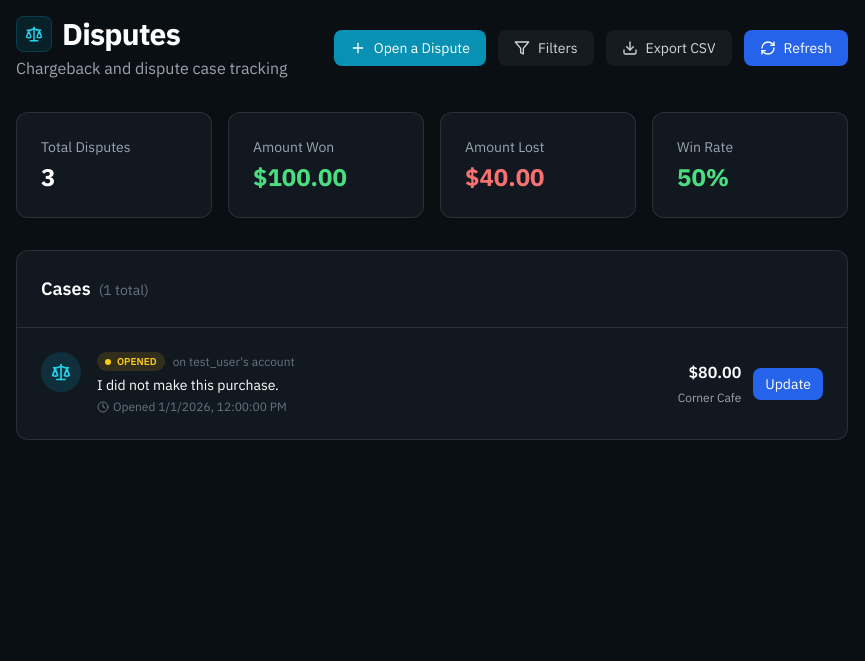
DisputesPage — admin › shows a transition error inline without discarding the form
This screenshot has width=865, height=661.
Click the button "Update".
click(788, 384)  # box 753,368 -> 823,400
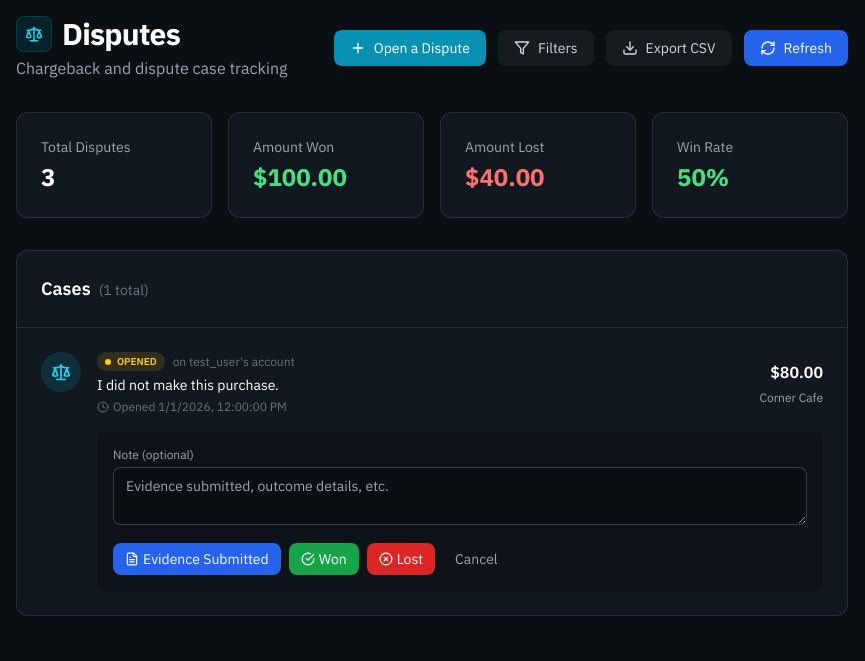
Click the button "Won".
click(324, 559)  # box 289,543 -> 359,575
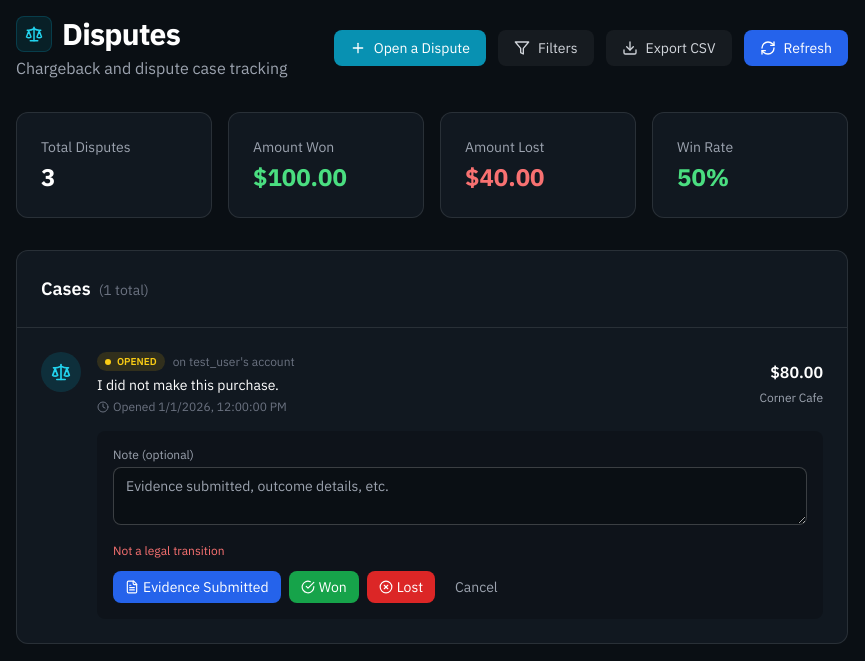
Now the button "Cancel" is shown, box 443,571 -> 510,603
Now the text "Not a legal transition" is shown, box 113,543 -> 224,558
